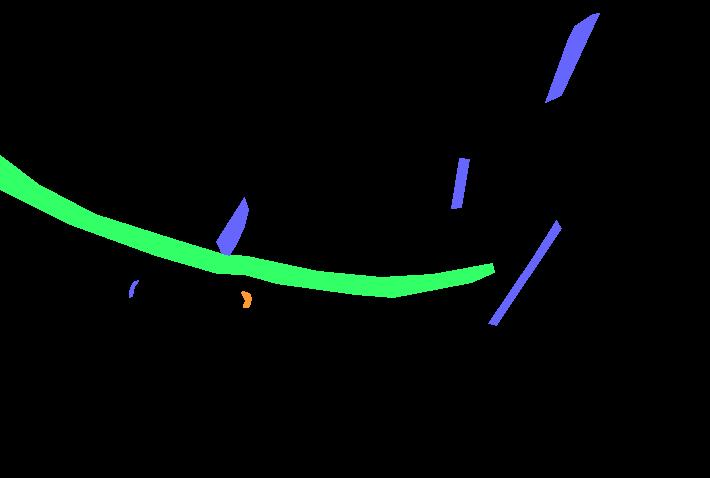Broken part: (0, 155, 494, 297)
Paint chip: (241, 291, 251, 307)
Scratch: (488, 220, 561, 325), (545, 13, 599, 102), (216, 197, 248, 255), (451, 158, 469, 208), (129, 280, 138, 297)
